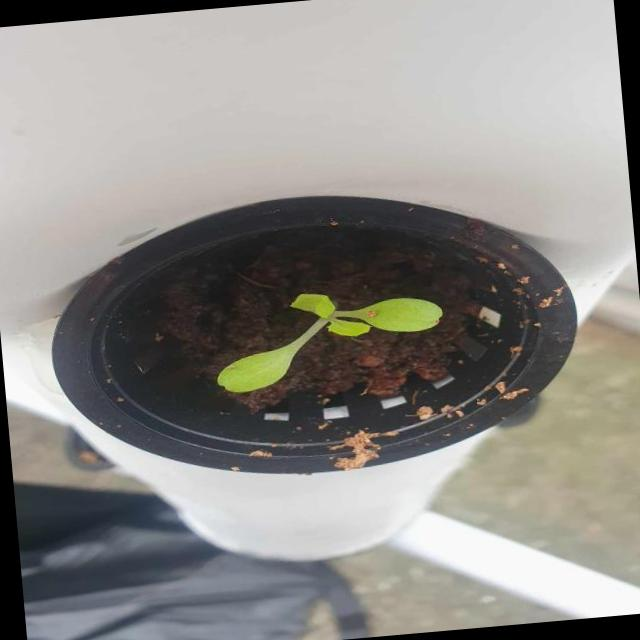Lettuce-Not-Ready-to-Harvest: (216, 294, 444, 394)
